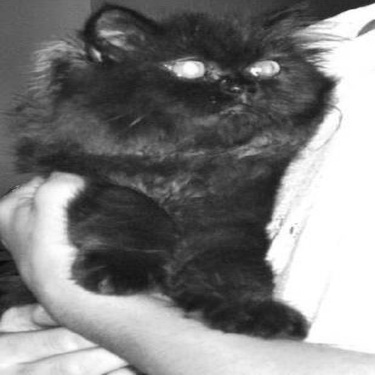cat: (10, 4, 335, 356)
